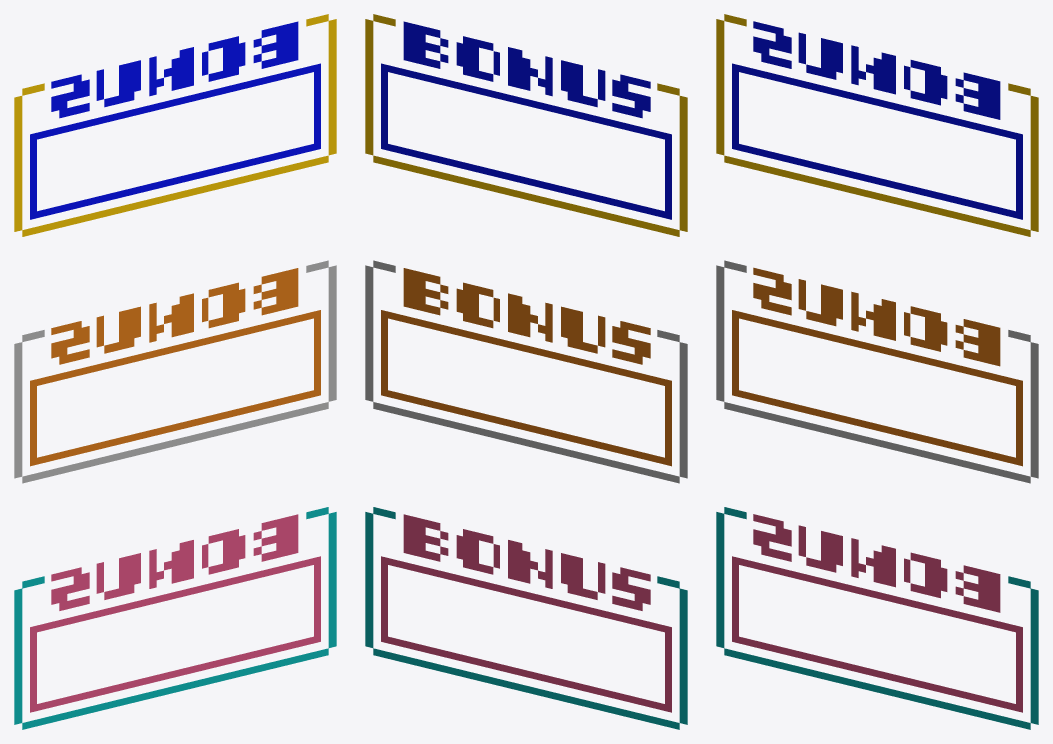
Rendered from Bonus_UI.fbx.
The picture shows the model from 3 angles, left to right: view 1: azimuth 30°, elevation 25°; view 2: azimuth 150°, elevation 25°; view 3: azimuth 330°, elevation 25°; orthographic projection.
Visible parts, largest first — view 1: Cube, Cube.002, Cube.003; view 2: Cube, Cube.002, Cube.003; view 3: Cube, Cube.002, Cube.003.
Part boxes in pixels (left/top/right/bottom): Cube: left=14, top=507, right=336, bottom=729; Cube.002: left=14, top=260, right=336, bottom=483; Cube.003: left=14, top=14, right=336, bottom=236; Cube: left=365, top=507, right=687, bottom=729; Cube.002: left=365, top=260, right=687, bottom=483; Cube.003: left=365, top=14, right=687, bottom=236; Cube: left=716, top=507, right=1038, bottom=729; Cube.002: left=716, top=260, right=1038, bottom=483; Cube.003: left=716, top=14, right=1038, bottom=236.
Size of the model in its own units: 4742 by 9007 by 6.41e-05.
